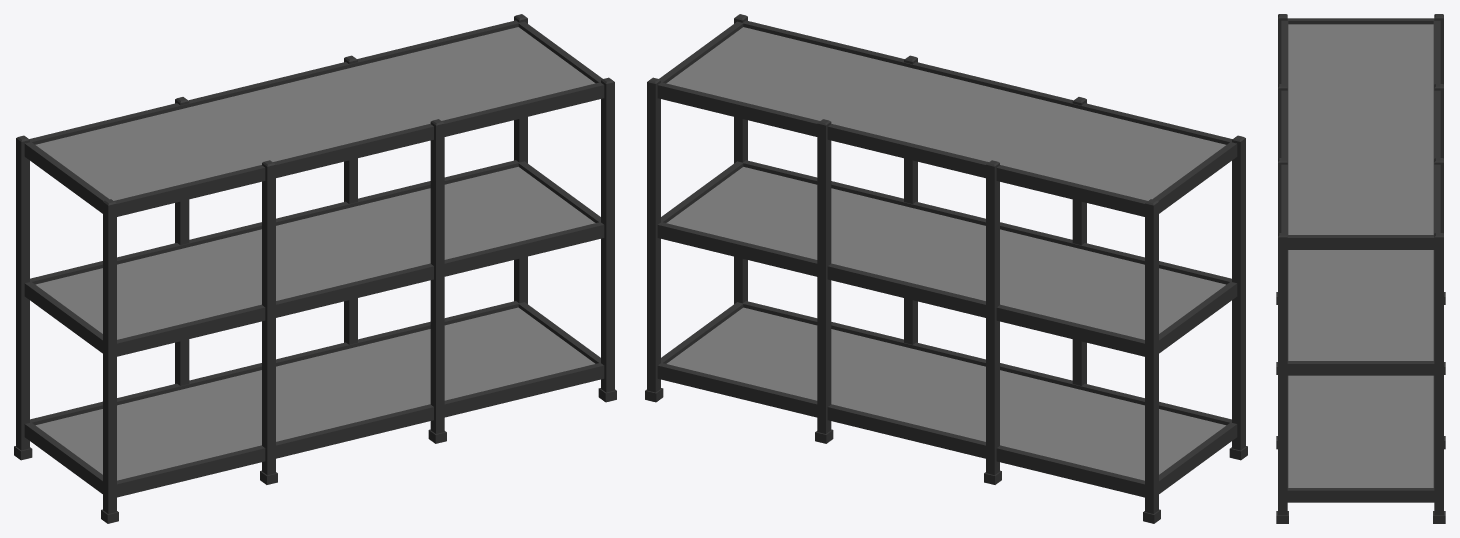
The model's file is props_54.glb.
3 views of the same model, side by side, from view 1: azimuth 30°, elevation 25°; view 2: azimuth 150°, elevation 25°; view 3: azimuth 270°, elevation 25° (orthographic). The views are drawn at different scales.
Parts seen in each view (by area): view 1: props_54; view 2: props_54; view 3: props_54.
Part boxes in pixels (left/top/right/bottom): props_54: left=14, top=14, right=616, bottom=523; props_54: left=645, top=14, right=1247, bottom=523; props_54: left=1276, top=14, right=1445, bottom=523.
Size of the model in its own units: 2.99 by 1.79 by 0.9536.
Materials: 1 (1 with a texture image).
